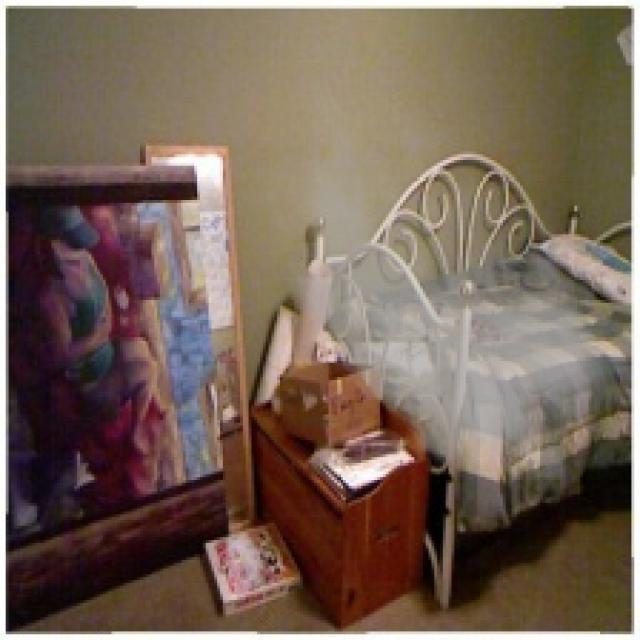Smoke: (252, 72, 628, 497)
